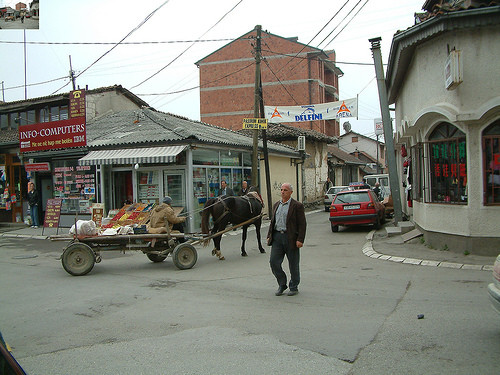horse: (199, 183, 267, 260)
